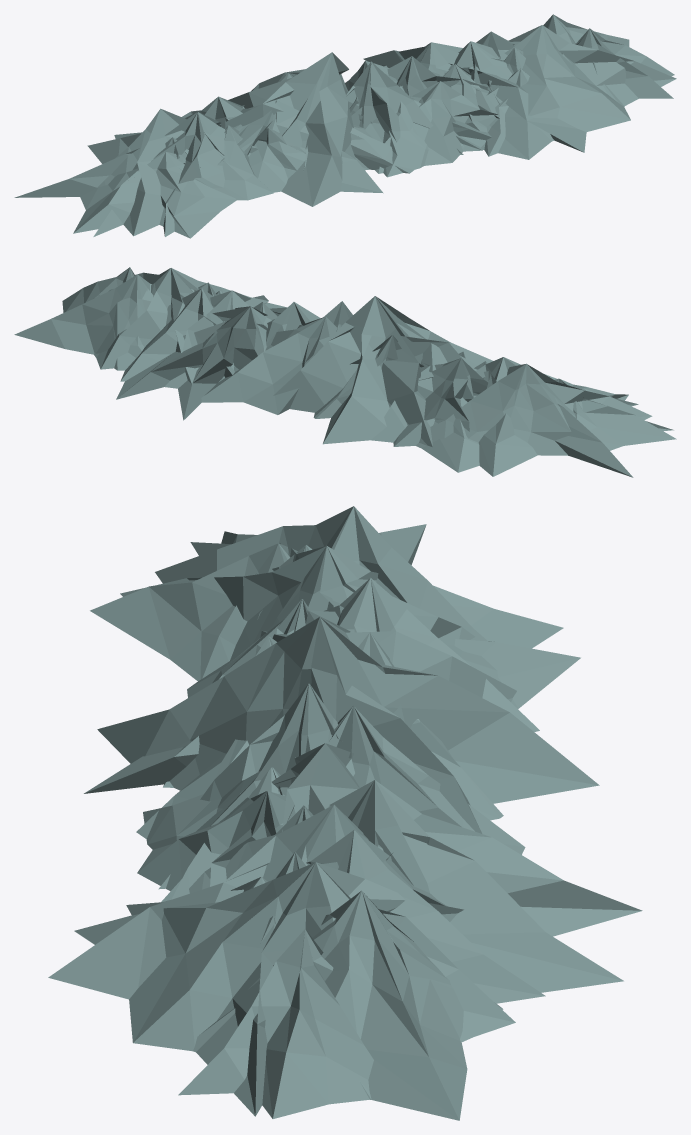
The model's file is range_meadow_far.glb.
3 renders of one model, top to bottom at view 1: azimuth 30°, elevation 25°; view 2: azimuth 150°, elevation 25°; view 3: azimuth 270°, elevation 25°, orthographic. The views are drawn at different scales.
Parts seen in each view (by area): view 1: land; view 2: land; view 3: land.
Boxes of the visible parts, x1,y1,x2,y2 form: land: (14, 14, 676, 238); land: (14, 267, 676, 477); land: (48, 506, 642, 1120).
Bounding box in the file's own units: 818 × 119 × 345.
